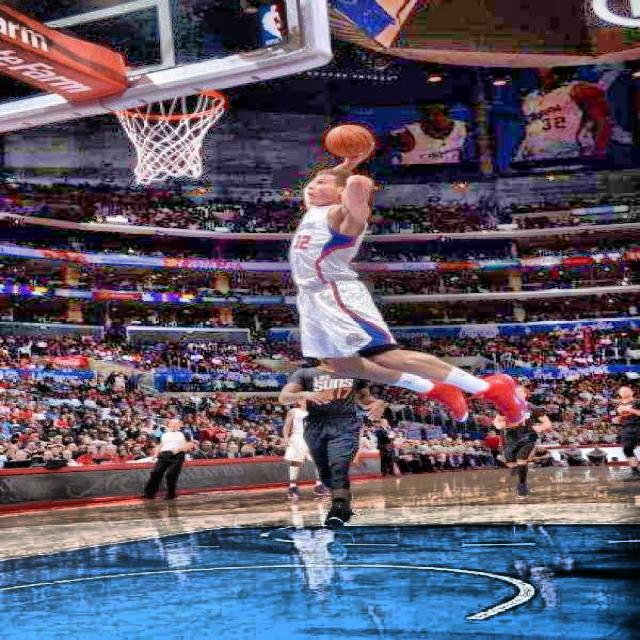rim: (112, 90, 226, 182)
